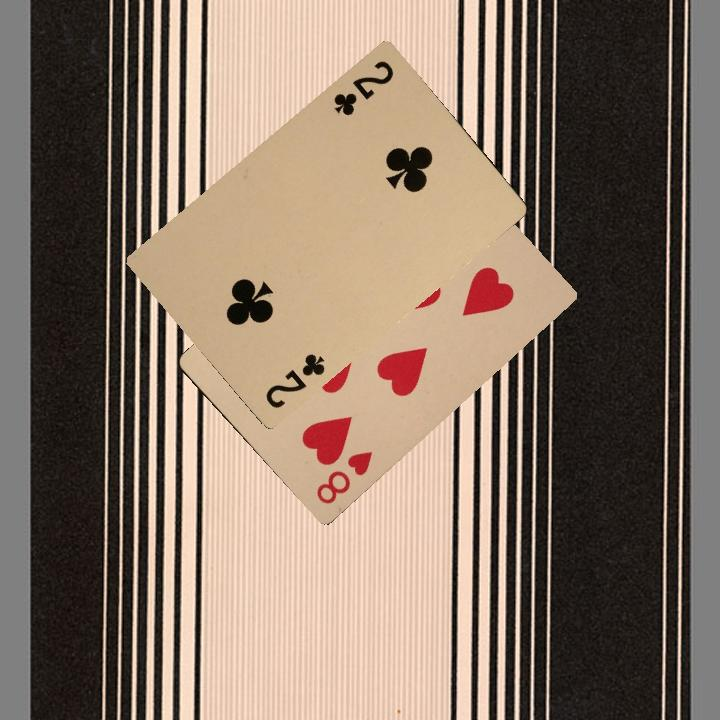2c: (329, 56, 397, 119), (261, 349, 328, 412)
8h: (312, 446, 375, 507)
